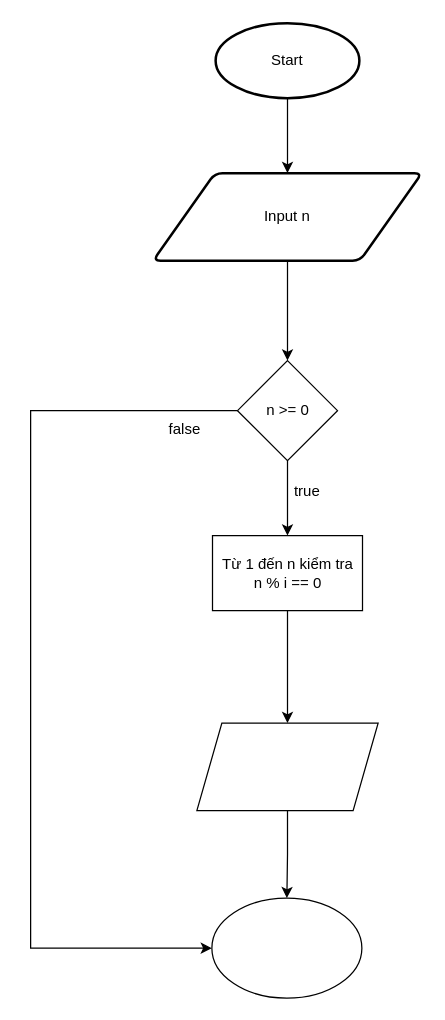
Some shapes in this 445 by 1020 pixel diagram are drawn without their labels. The shapes that lost their labels are listed below. From the top down, each one's centre as x and y in pixels, then its label:
At pixel 287 766: "Print các ước n".
At pixel 286 947: "End".
